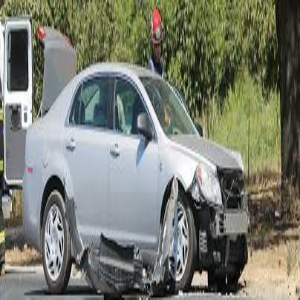door: (68, 197, 162, 291)
